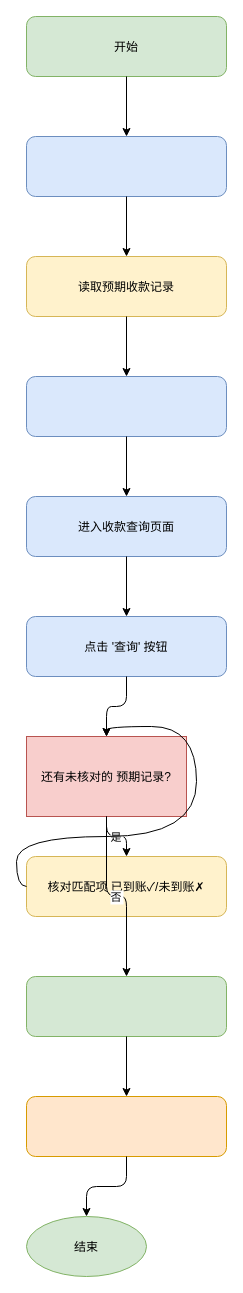
The diagram is 243 pixels wide and 1293 high, and some of its shapes have lost their labels. Here are the shapes that lost their labels. From the top down, the centre of each, then its label:
At (x=126, y=166): "打开收款查询 业务数据表.xls".
At (x=126, y=406): "登录工行企业网银".
At (x=126, y=1006): "生成核对报告".
At (x=126, y=1126): "退出企业网银".
